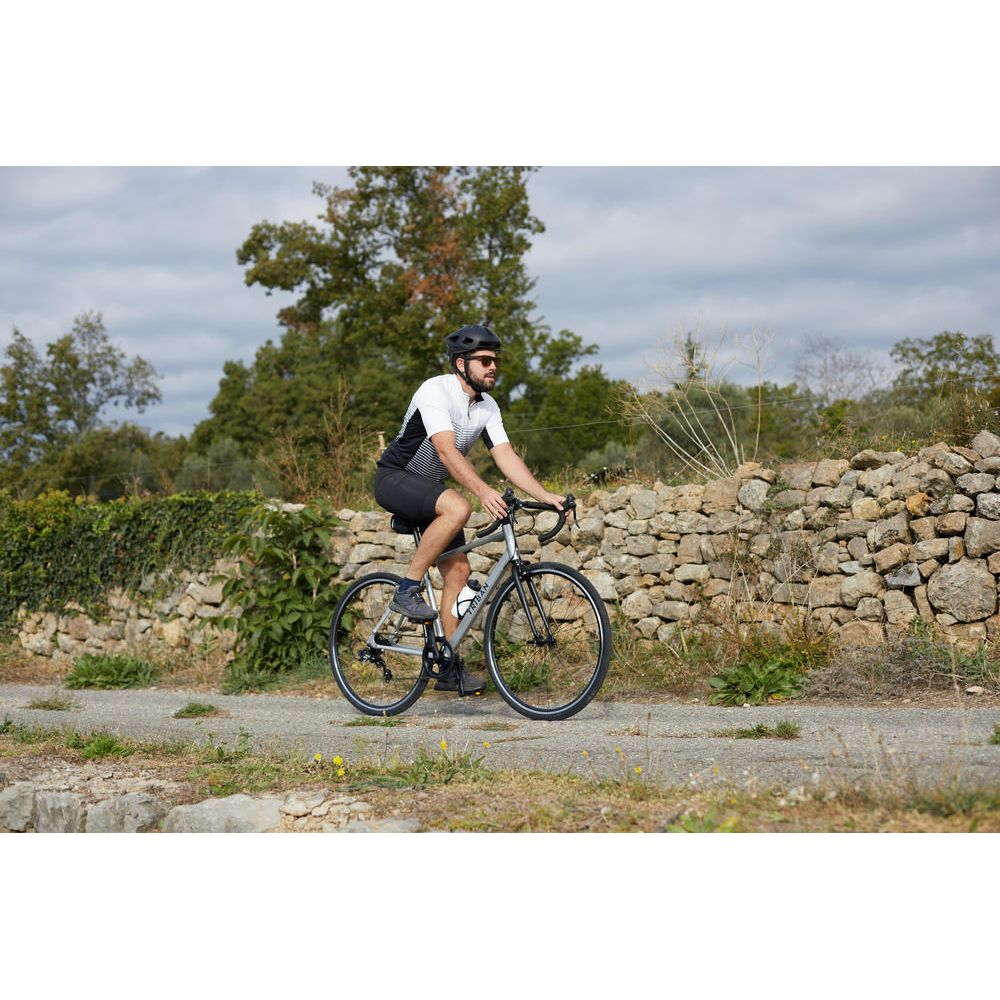RoadBike: (323, 395, 655, 732)
